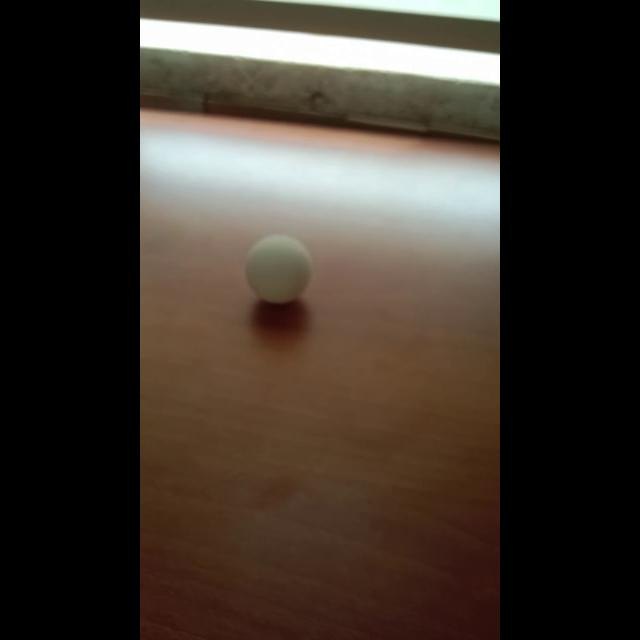white ball: (244, 232, 312, 304)
